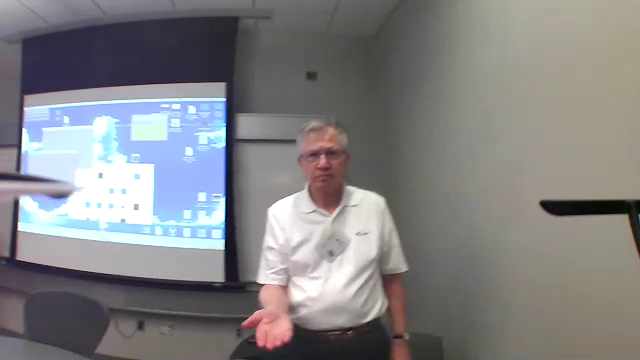land: (233, 304, 304, 351)
